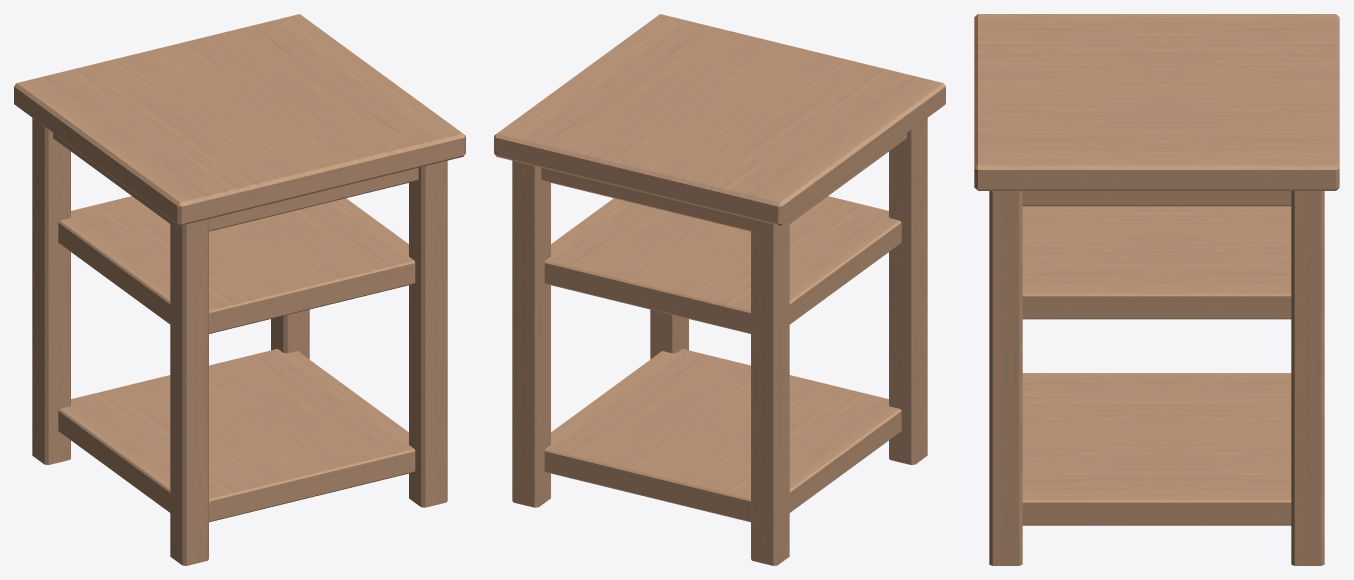
The model's file is side_table.glb.
3 views of the same model, side by side, from view 1: azimuth 30°, elevation 25°; view 2: azimuth 150°, elevation 25°; view 3: azimuth 270°, elevation 25° (orthographic). The views are drawn at different scales.
Parts seen in each view (by area): view 1: side table; view 2: side table; view 3: side table.
Part boxes in pixels (x1,y1,x2,y2): side table: (14,14,465,565); side table: (494,14,945,565); side table: (974,14,1339,565).
Bounding box in the file's own units: 0.8701 × 1.07 × 0.8701.
Materials: 1 (1 with a texture image).
